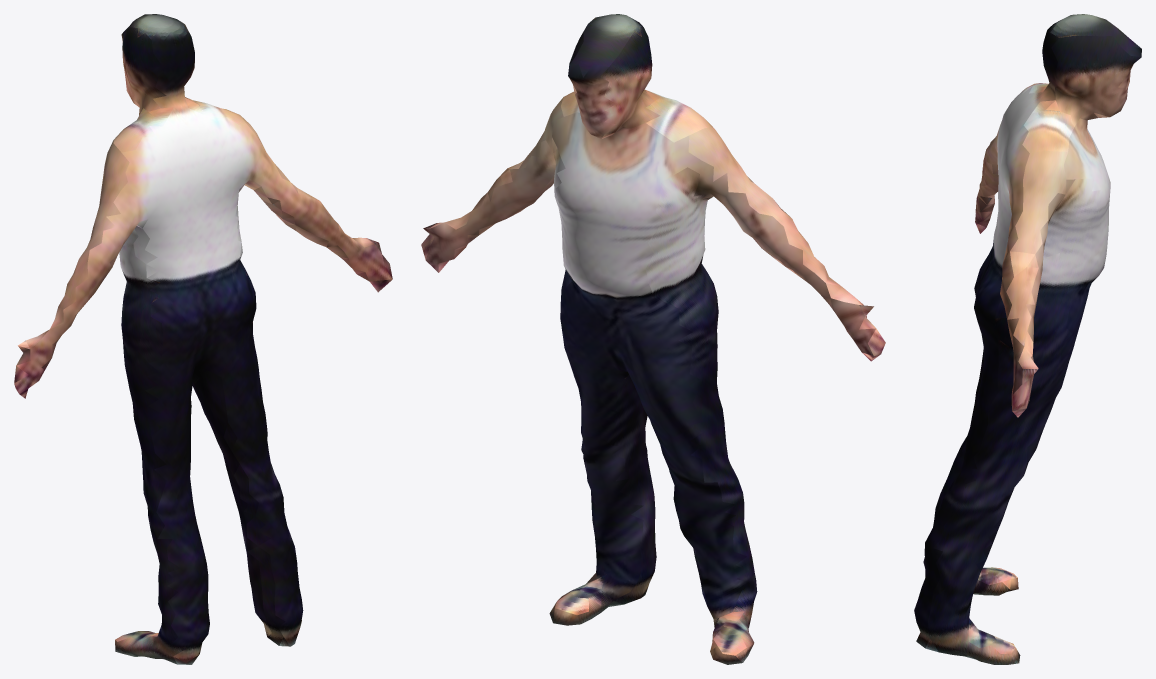
3 renders of one model, left to right at view 1: azimuth 30°, elevation 25°; view 2: azimuth 150°, elevation 25°; view 3: azimuth 270°, elevation 25°, orthographic. The views are drawn at different scales.
Visible parts, largest first — view 1: world; view 2: world; view 3: world.
Boxes of the visible parts, x1,y1,x2,y2 form: world: [14, 14, 392, 664]; world: [421, 14, 885, 664]; world: [914, 14, 1141, 664].
Bounding box in the file's own units: 0.7118 × 1.01 × 0.3442.
1 material, 1 textured.
